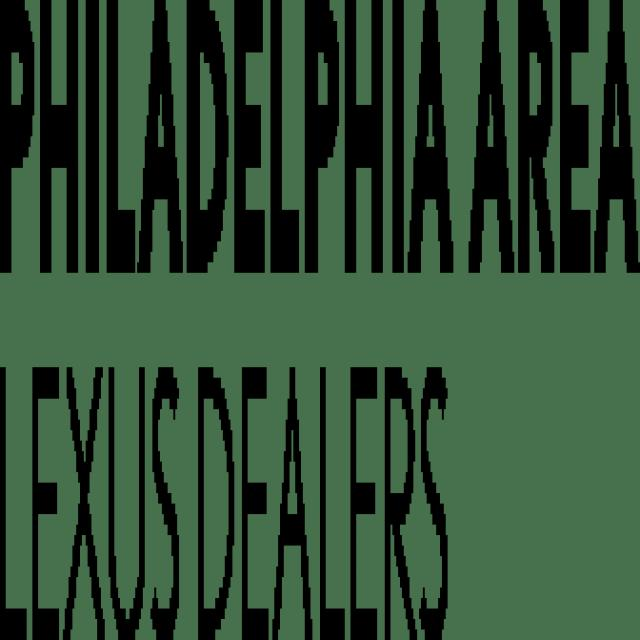message: (0, 0, 638, 630), (0, 0, 638, 273)
